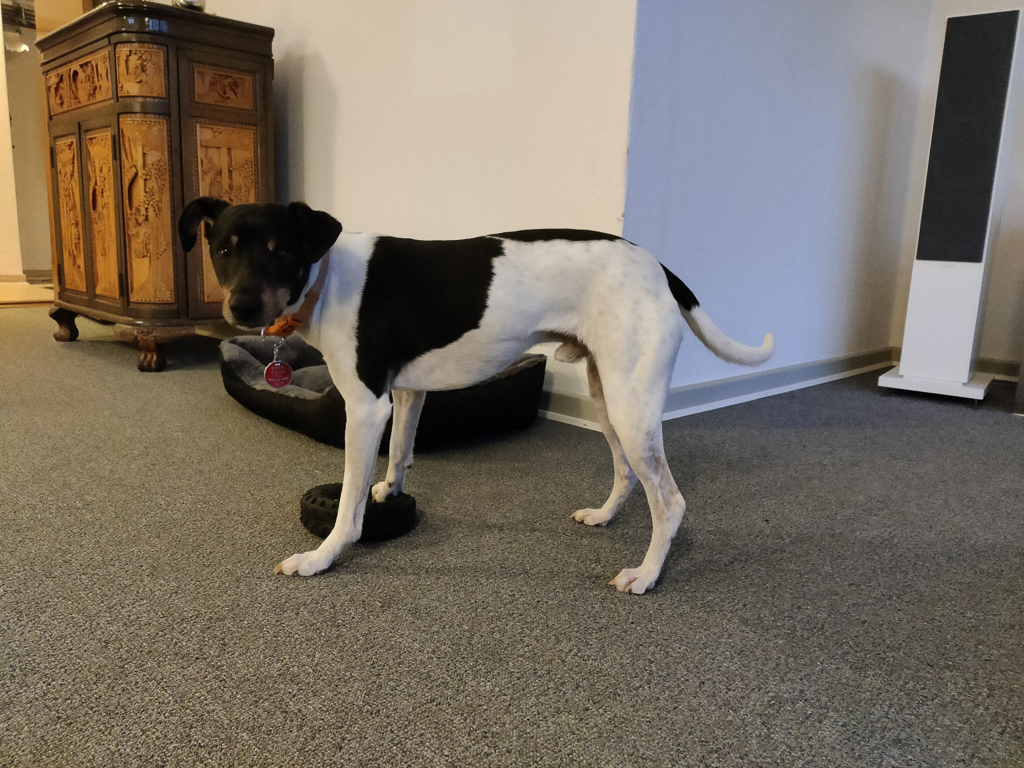Dog: (163, 189, 788, 604)
